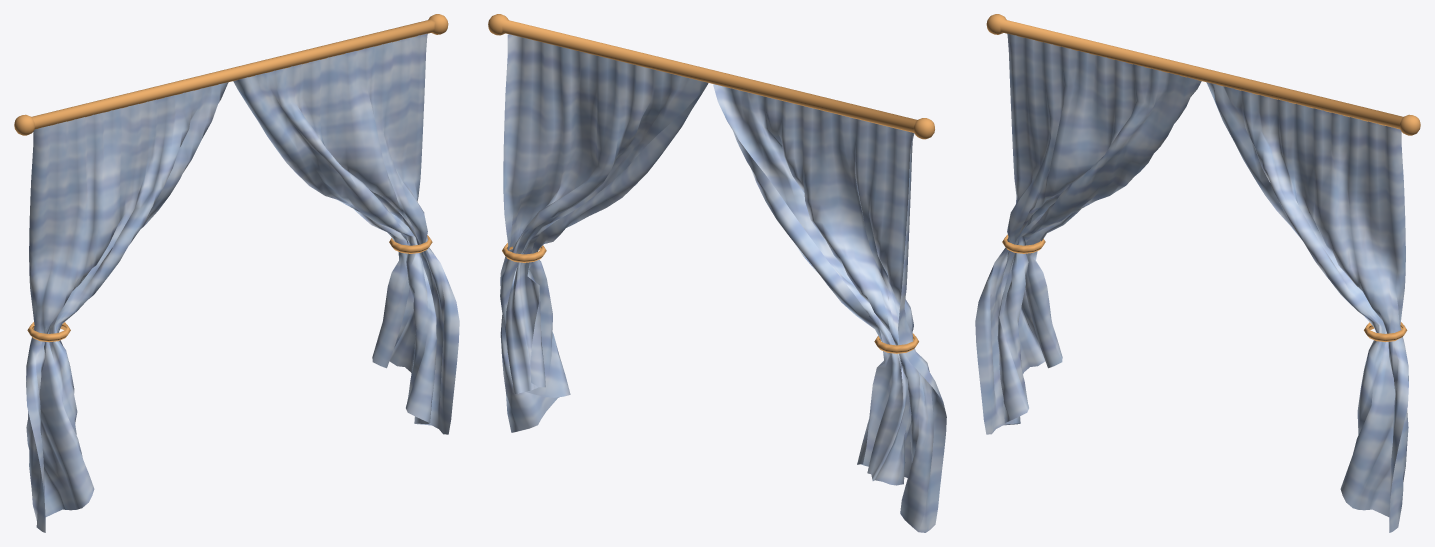
Rendered from Cortina.fbx.
The picture shows the model from 3 angles, left to right: view 1: azimuth 30°, elevation 25°; view 2: azimuth 150°, elevation 25°; view 3: azimuth 330°, elevation 25°; orthographic projection. The views are drawn at different scales.
Parts seen in each view (by area): view 1: Cortina; view 2: Cortina; view 3: Cortina.
Boxes of the visible parts, bbox=[...] form: Cortina: bbox=[14, 14, 459, 532]; Cortina: bbox=[488, 14, 946, 532]; Cortina: bbox=[975, 14, 1420, 532].
Bounding box in the file's own units: 434 × 393 × 74.1.
